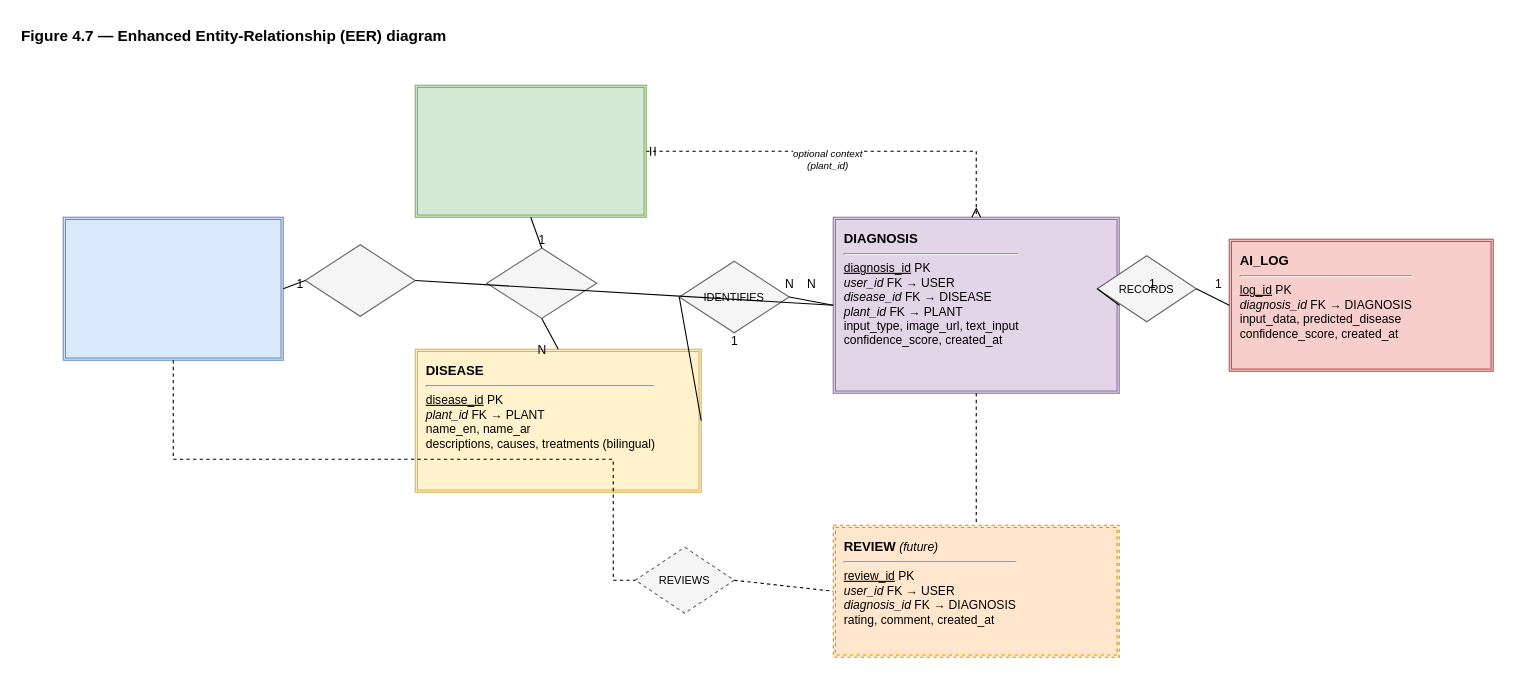
Some shapes in this 1513 by 677 pixel diagram are drawn without their labels. The shapes that lost their labels are listed below. From the top down, each one's centre as x and y in pixels, then its label:
At [530,150]: "PLANT plant_id PK name_en, name_ar description_en, description_ar created_at".
At [172,288]: "USER id PK (Firebase UID) email username role created_at".
At [359,280]: "SUBMITS".
At [541,282]: "CATALOG (1 plant : N diseases)".
